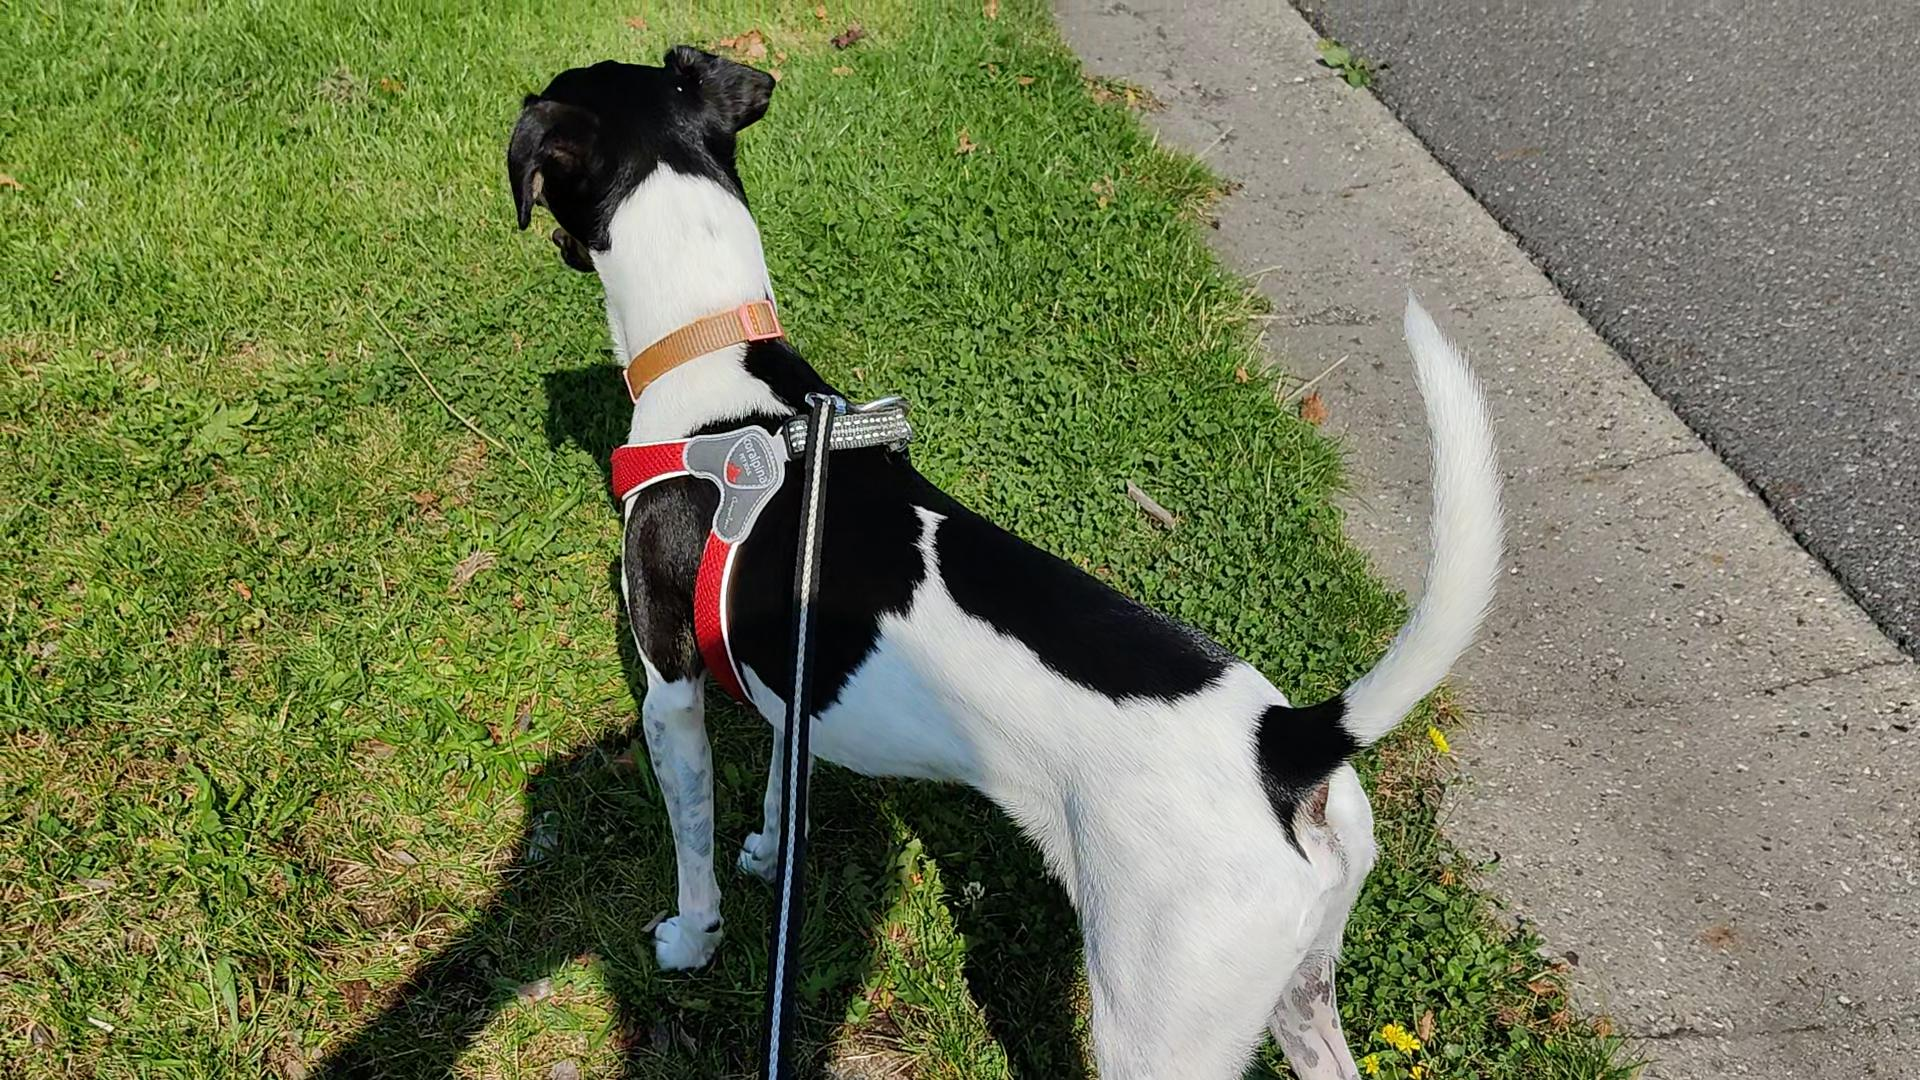Dog: (493, 26, 1528, 1079)
